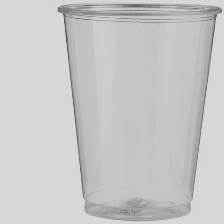glass: (50, 1, 224, 223)
